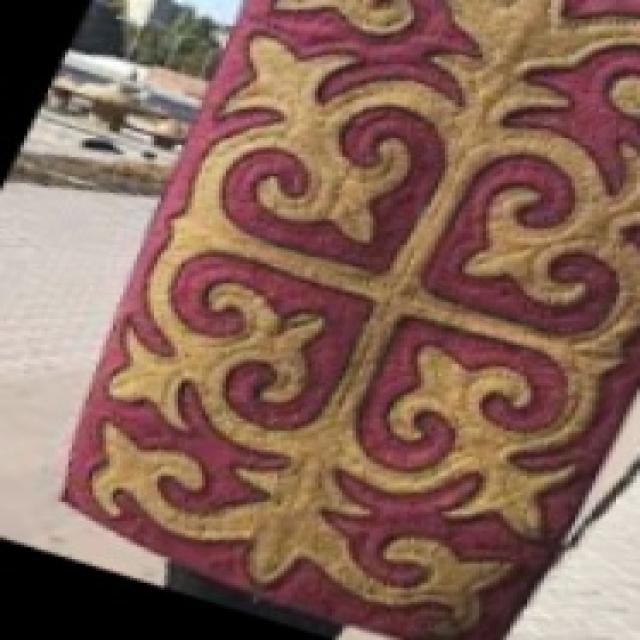Unity: (74, 27, 637, 553)
